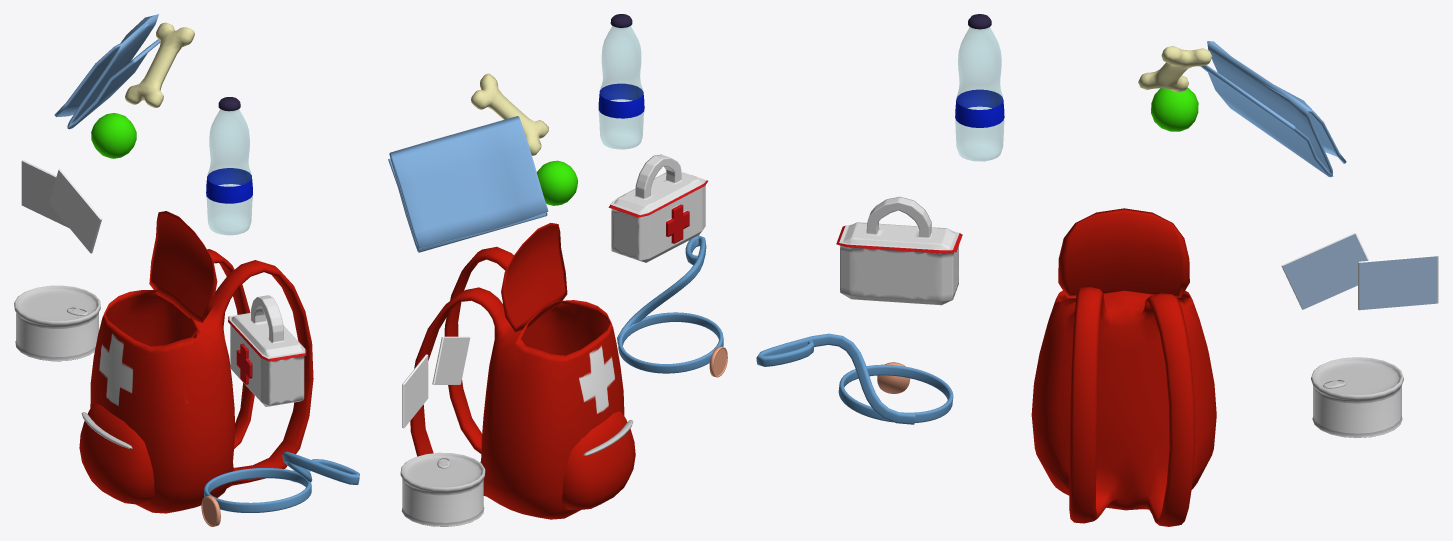
The model's file is maleta-hd.glb.
3 views of the same model, side by side, from view 1: azimuth 30°, elevation 25°; view 2: azimuth 150°, elevation 25°; view 3: azimuth 270°, elevation 25° (orthographic). The views are drawn at different scales.
Parts seen in each view (by area): view 1: maletin, pelota, Cube, latita, Cylinder, maletin.001, bolsillo, medalla, idgato; view 2: maletin, pelota, Cube, latita, Cylinder, maletin.001, bolsillo, medalla, idgato; view 3: maletin, pelota, Cube, maletin.001, idgato, latita, Cylinder, medalla.
Part boxes in pixels (x1,y1,x2,y2): maletin: (90, 249, 313, 513); pelota: (54, 14, 194, 158); Cube: (228, 295, 306, 406); latita: (14, 285, 100, 361); Cylinder: (206, 97, 252, 235); maletin.001: (149, 211, 217, 322); bolsillo: (79, 403, 154, 504); medalla: (201, 451, 359, 526); idgato: (21, 160, 101, 253); maletin: (410, 246, 624, 519); pelota: (388, 73, 577, 252); Cube: (608, 154, 707, 262); latita: (400, 452, 485, 526); Cylinder: (598, 14, 644, 149); maletin.001: (501, 223, 567, 332); bolsillo: (562, 411, 635, 509); medalla: (617, 235, 727, 377); idgato: (402, 336, 470, 428); maletin: (1031, 287, 1216, 526); pelota: (1138, 41, 1346, 177); Cube: (836, 196, 962, 305); maletin.001: (1058, 208, 1189, 298); idgato: (1281, 232, 1438, 310); latita: (1311, 357, 1403, 437); Cylinder: (955, 14, 1004, 161); medalla: (756, 333, 953, 424).
Bounding box in the file's own units: 2.03 × 4.48 × 5.76.
19 materials, 3 textured.
